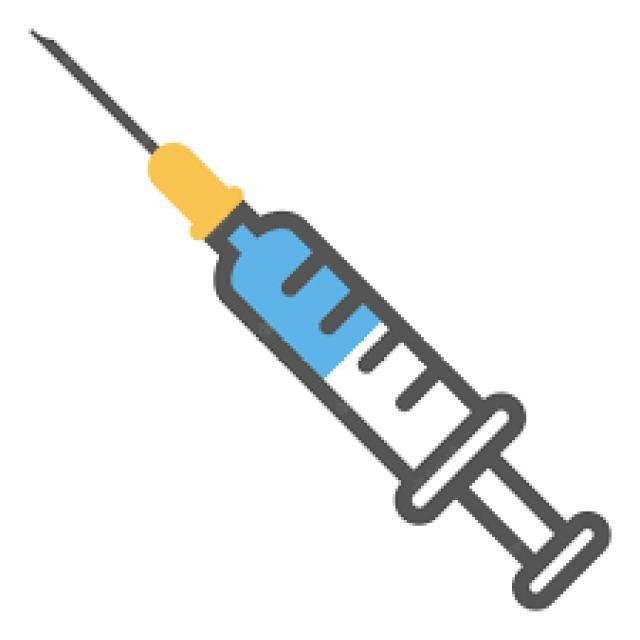syringe: (38, 23, 640, 557)
